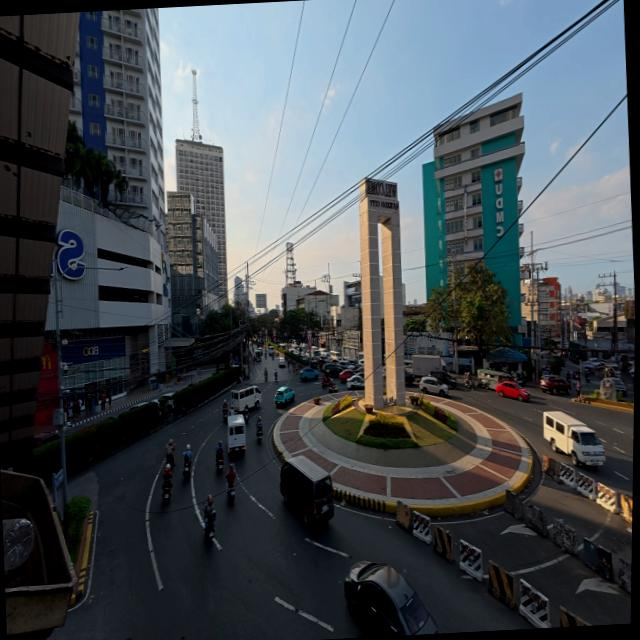Jeepneys: (476, 369, 509, 389), (255, 349, 261, 362)
car: (344, 562, 437, 635), (279, 456, 333, 528), (495, 381, 528, 400), (539, 375, 570, 395), (418, 377, 448, 397), (429, 370, 456, 388), (32, 432, 59, 448), (274, 387, 293, 407), (610, 377, 625, 396), (298, 367, 318, 381), (346, 375, 364, 389), (322, 363, 340, 377), (338, 369, 353, 383), (127, 401, 148, 411), (403, 369, 413, 386), (337, 360, 353, 369), (588, 358, 600, 367), (308, 357, 317, 368), (317, 358, 325, 370), (278, 358, 285, 368), (381, 364, 386, 378), (358, 358, 365, 368)
motorcycle: (205, 512, 214, 540), (162, 481, 171, 502), (227, 485, 236, 505), (182, 459, 190, 479), (165, 453, 173, 469), (256, 424, 262, 443), (326, 382, 336, 393), (215, 457, 222, 472), (256, 427, 262, 443), (463, 379, 472, 389), (222, 408, 227, 424), (243, 409, 248, 424), (320, 376, 326, 388), (584, 371, 589, 383), (565, 372, 570, 383), (263, 372, 267, 382), (273, 371, 276, 381)
trucks: (412, 355, 447, 379)
vans: (279, 456, 333, 527), (543, 411, 604, 466), (231, 386, 260, 411), (227, 414, 245, 454), (267, 346, 273, 356)
